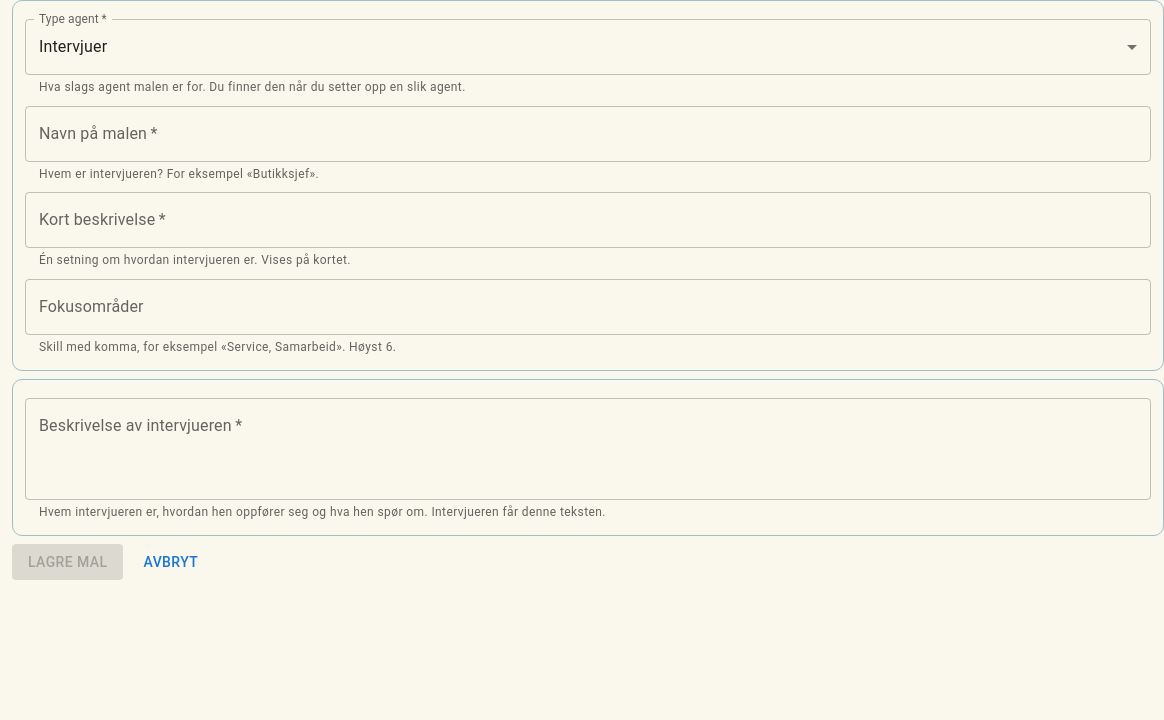
Test case: TemplateForm for a new template › lets the counsellor choose the agent type, with planned types shown but not choosable
Step 1. Click the dropdown named "Type agent" → (73, 47), box [39,37,107,56]
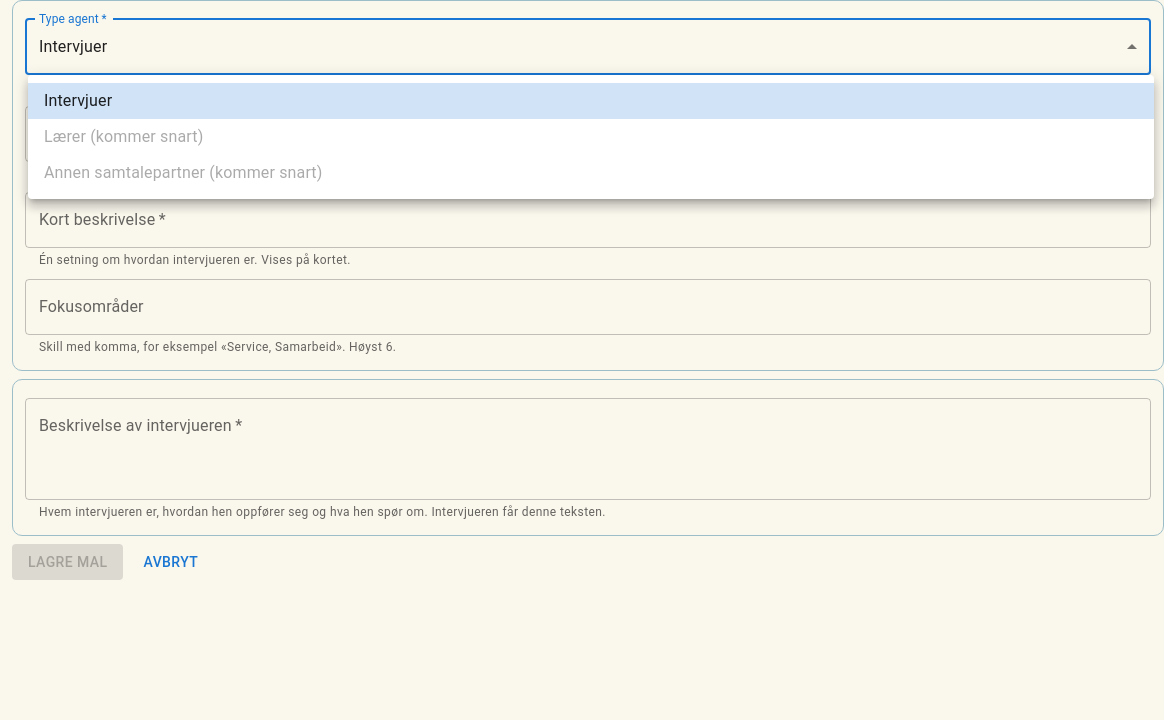
Expected: the option "Intervjuer" is shown, [28,83,1154,119]
